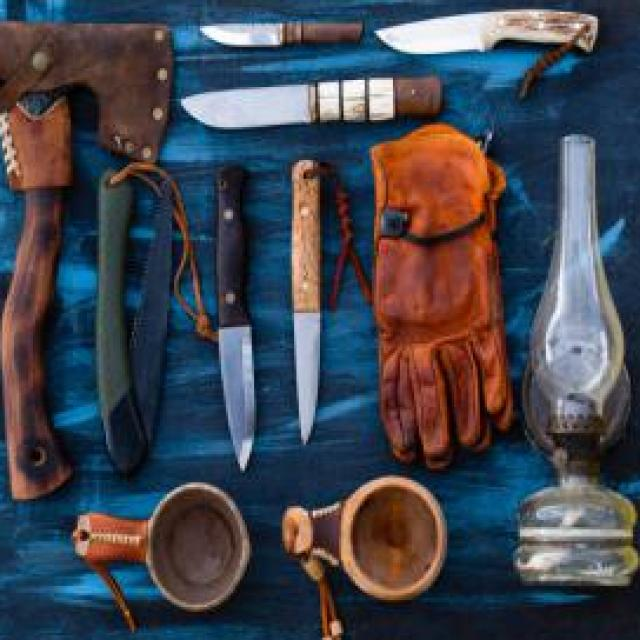knife: (0, 16, 177, 496), (91, 160, 174, 468), (185, 71, 438, 134), (210, 162, 256, 462), (287, 160, 325, 441), (378, 12, 600, 56), (193, 19, 362, 43)
